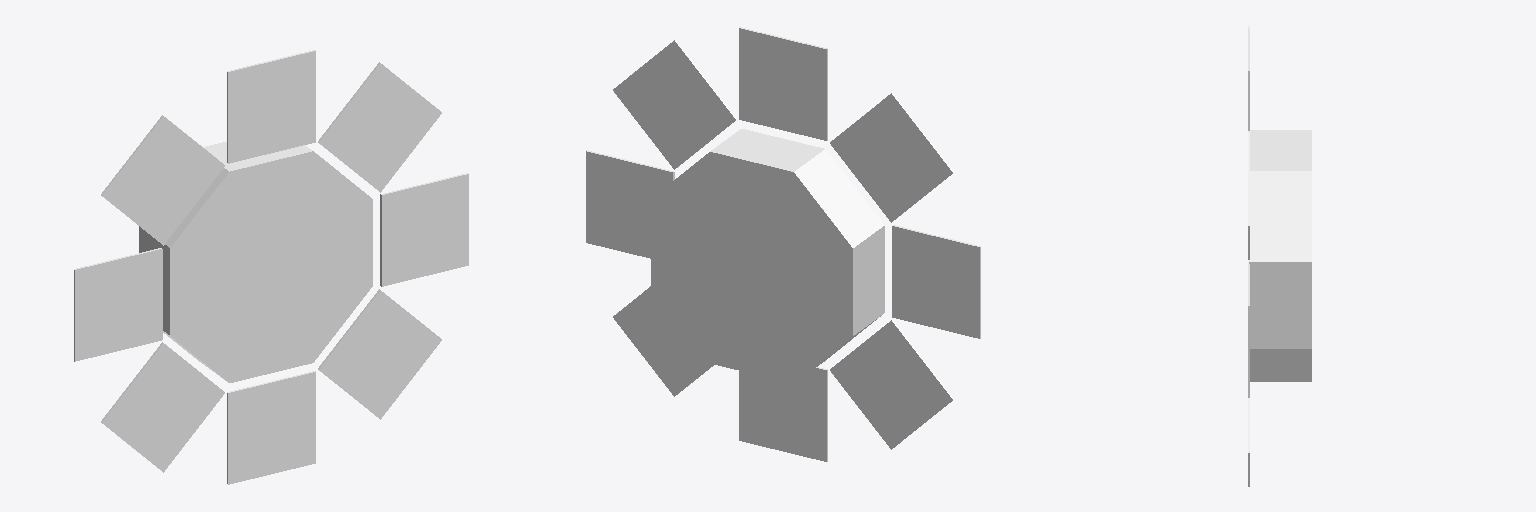
The model's file is Sunflower.obj.
The picture shows the model from 3 angles: view 1: azimuth 30°, elevation 25°; view 2: azimuth 150°, elevation 25°; view 3: azimuth 270°, elevation 25°; orthographic projection.
Parts seen in each view (by area): view 1: cylinder19; view 2: cylinder19; view 3: cylinder19.
Boxes of the visible parts, x1=… form: cylinder19: x1=74, y1=50, x2=468, y2=484; cylinder19: x1=586, y1=27, x2=980, y2=461; cylinder19: x1=1248, y1=25, x2=1311, y2=486.
Size of the model in its own units: 3.6 by 3.6 by 0.51.